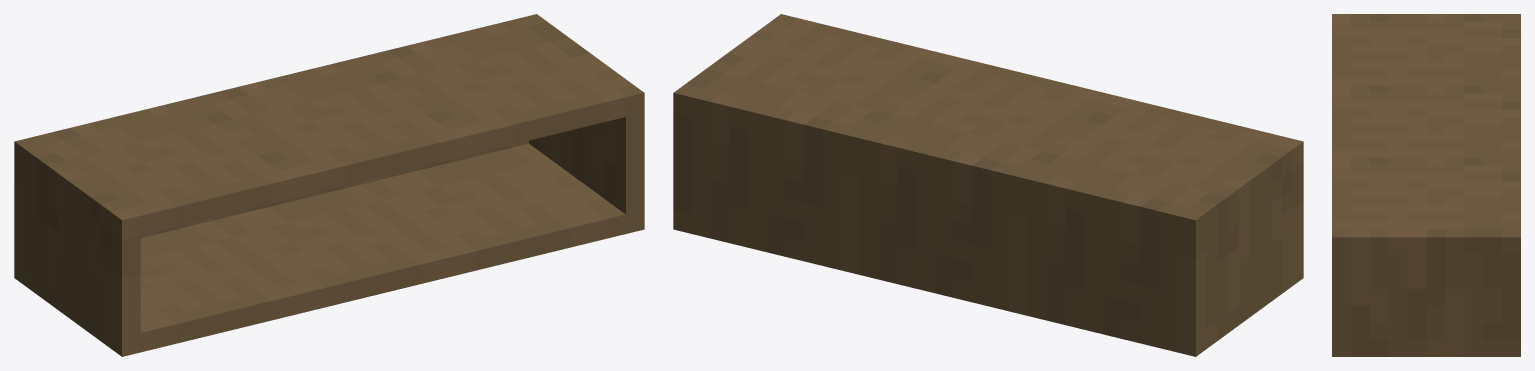
File: Decor-68.obj
3 views of the same model, side by side, from view 1: azimuth 30°, elevation 25°; view 2: azimuth 150°, elevation 25°; view 3: azimuth 270°, elevation 25° (orthographic). The views are drawn at different scales.
Size of the model in its own units: 2.8 by 0.7 by 1.
1 material, 1 textured.
